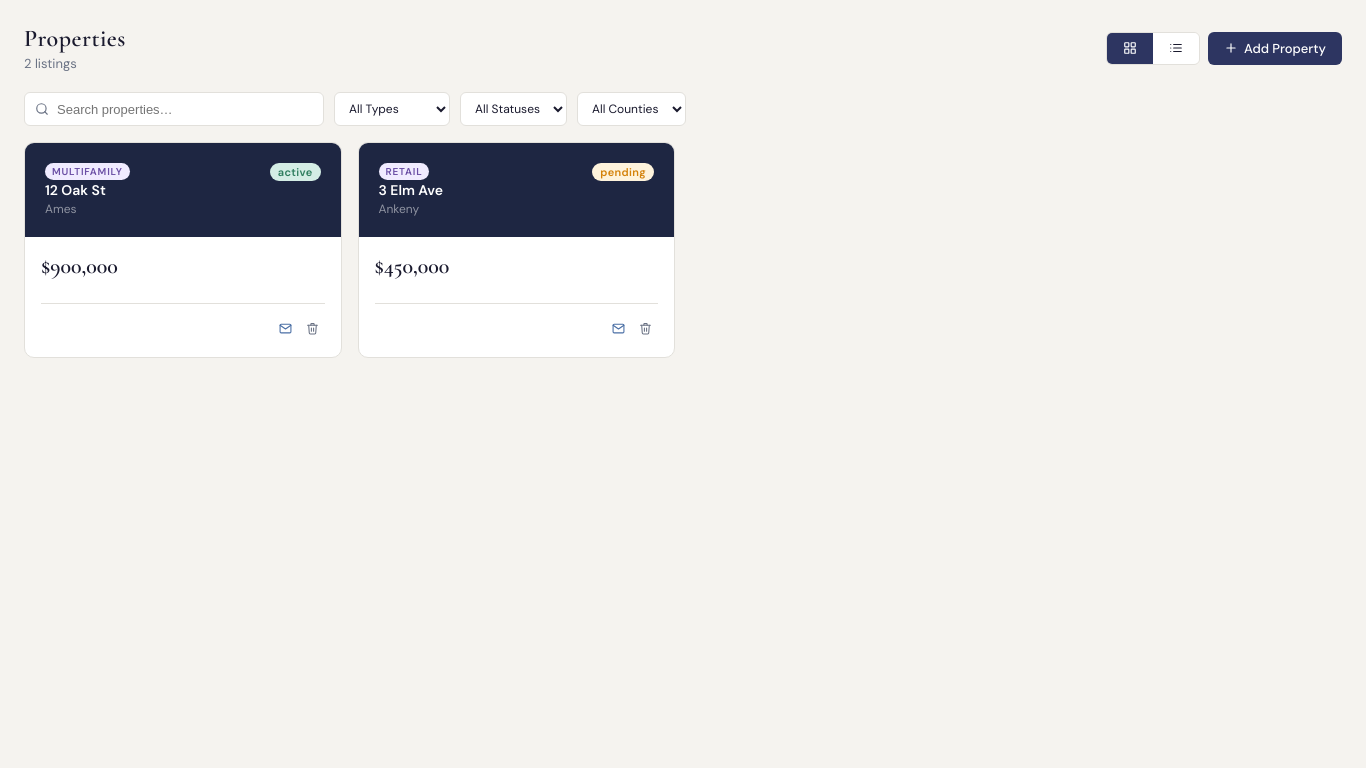
Scenario: PropertiesPage › removes the row and confirms on a successful delete
Step 1. Click the button named "Delete 12 Oak St" → (312, 328), box [300,316,324,341]
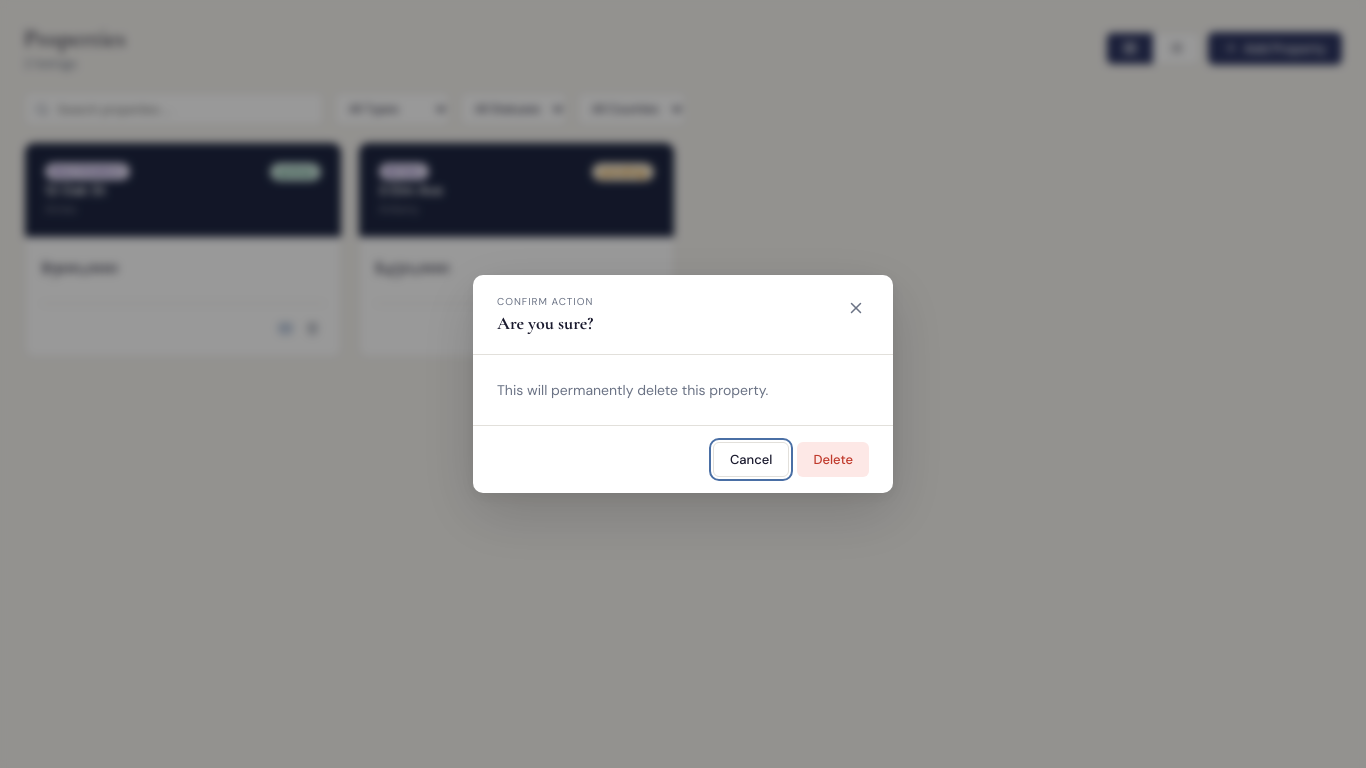
Step 2. Click the button "Delete" → (833, 460), box [797,442,869,477]
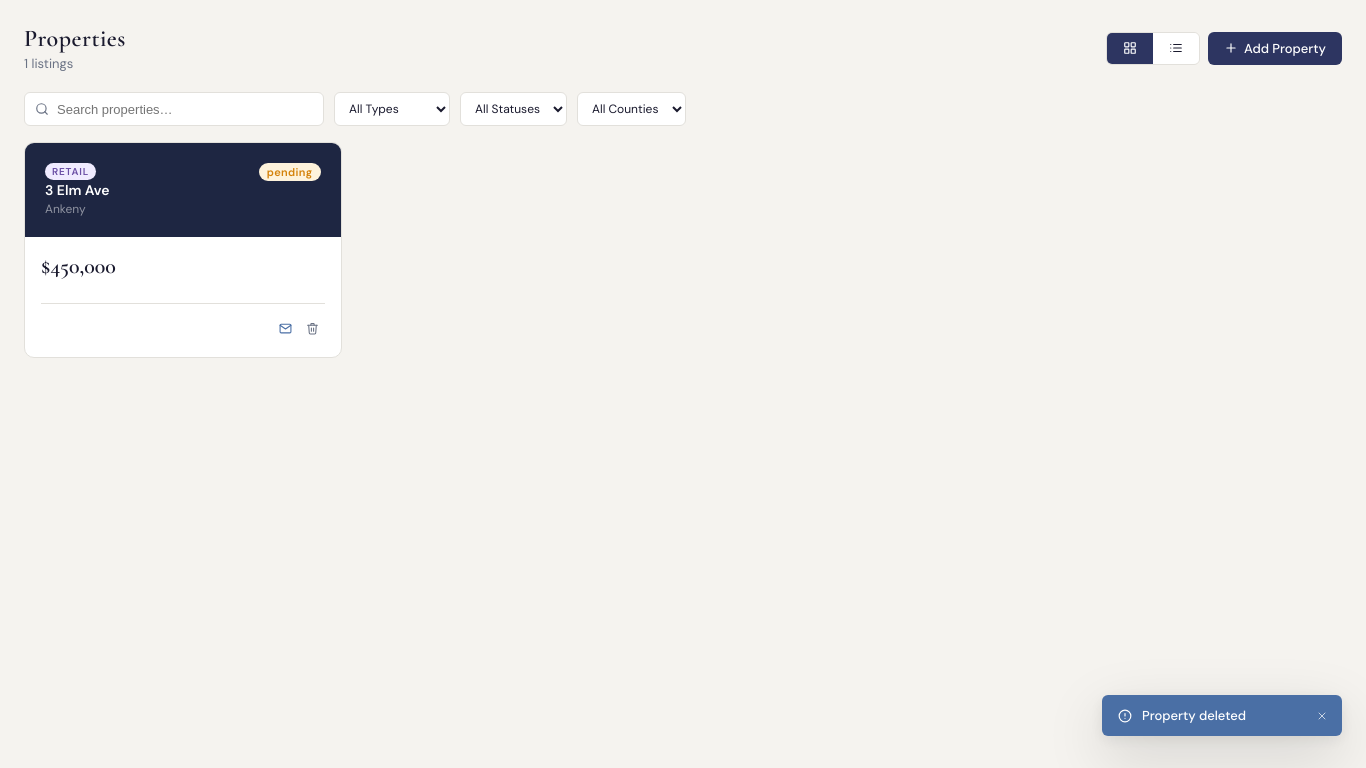
Expected: the text "Property deleted" is shown, [1142,707,1246,724]
Expected: the button "12 Oak St" is gone
